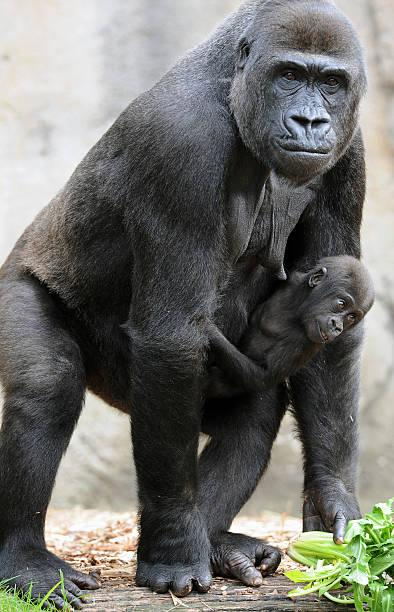gorille_Autres: (0, 1, 377, 612)
